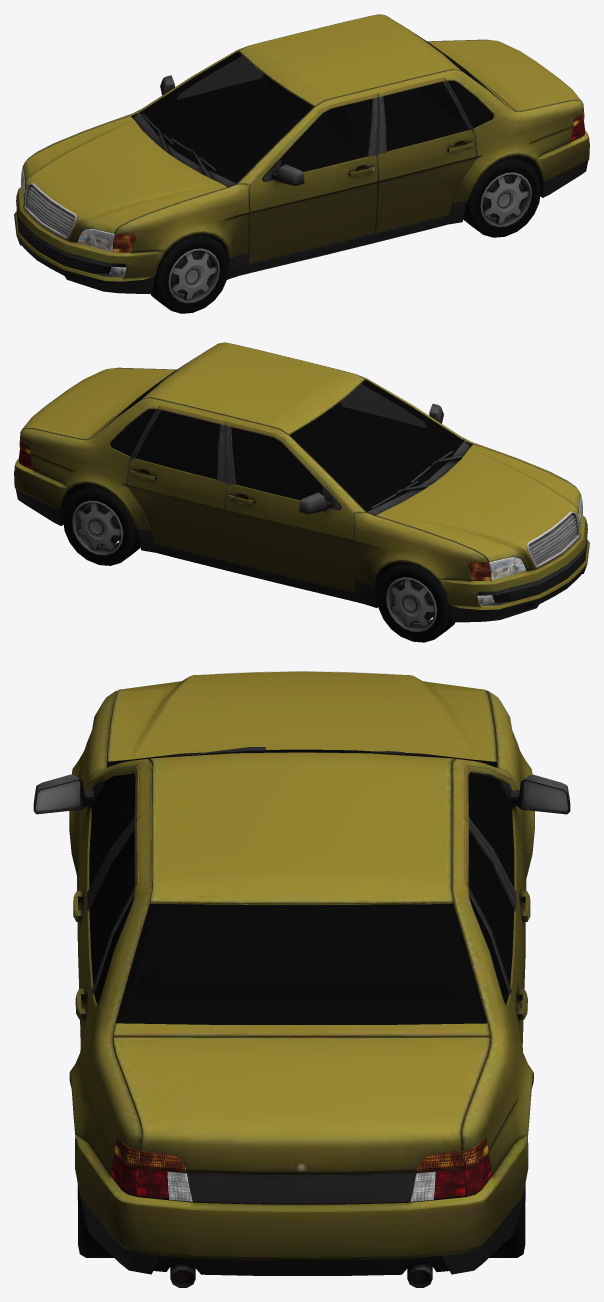
Rendered from gsedan.glb.
The picture shows the model from 3 angles, top to bottom: view 1: azimuth 30°, elevation 25°; view 2: azimuth 150°, elevation 25°; view 3: azimuth 270°, elevation 25°; orthographic projection. The views are drawn at different scales.
Visible parts, largest first — view 1: body, spin_RR, spin_FR; view 2: body, spin_FL, spin_RL; view 3: body, spin_FL, spin_FR.
Part boxes in pixels (x1,y1,x2,y2): body: (14,14,589,293); spin_RR: (150,233,230,313); spin_FR: (463,155,543,237); body: (14,342,589,622); spin_FL: (60,483,140,565); spin_RL: (374,562,455,642); body: (33,671,570,1287); spin_FL: (489,1184,525,1257); spin_FR: (77,1184,113,1257).
Size of the model in its own units: 4.6 by 1.42 by 2.05.
4 materials, 3 textured.
